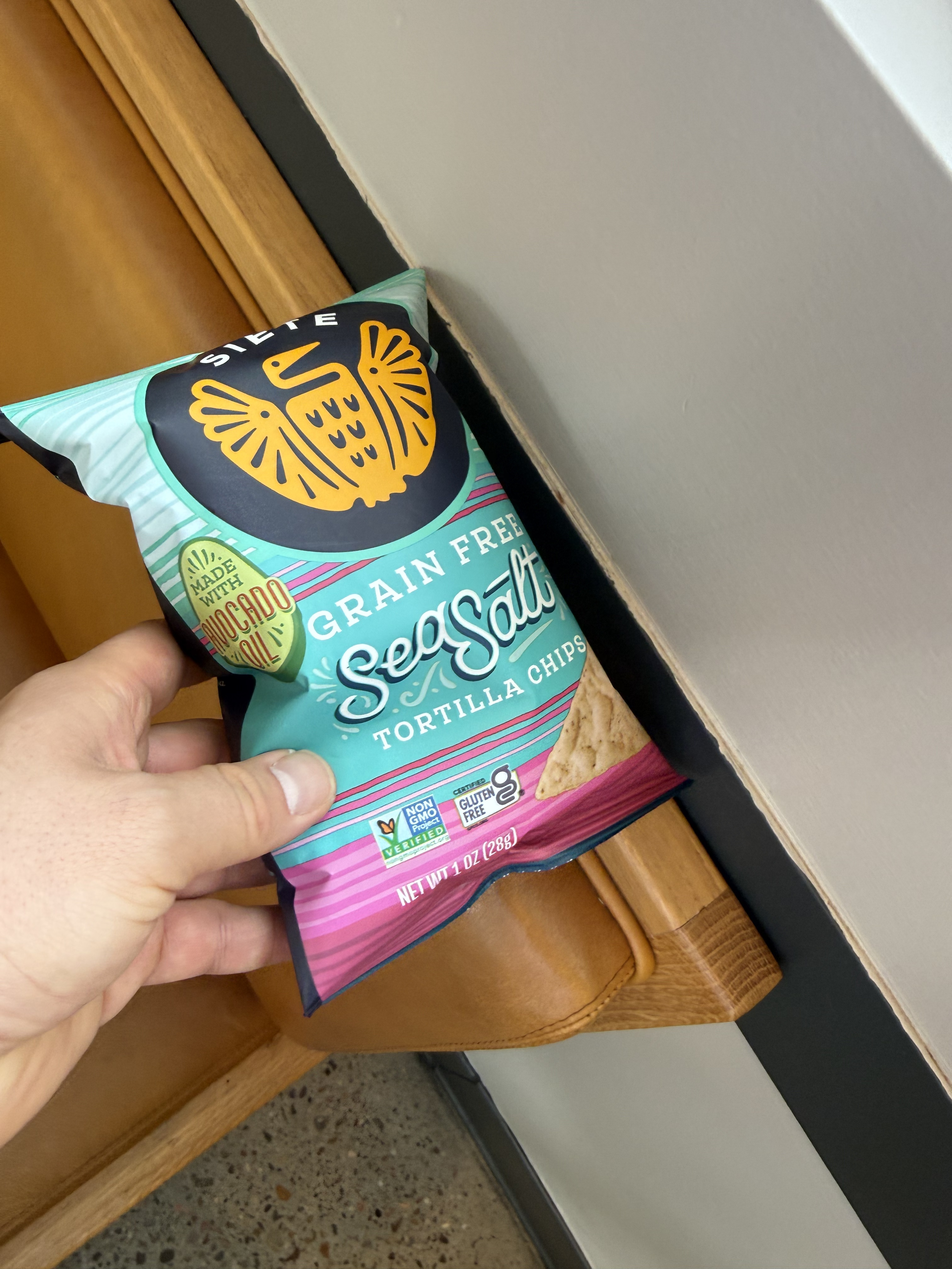sea_salt: (20, 421, 438, 1080)
